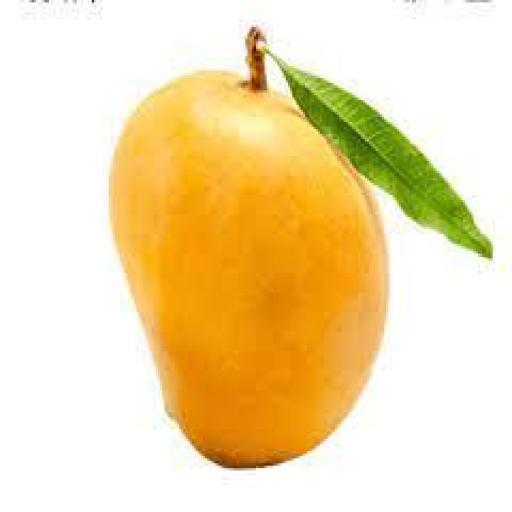mango: (111, 74, 386, 465)
